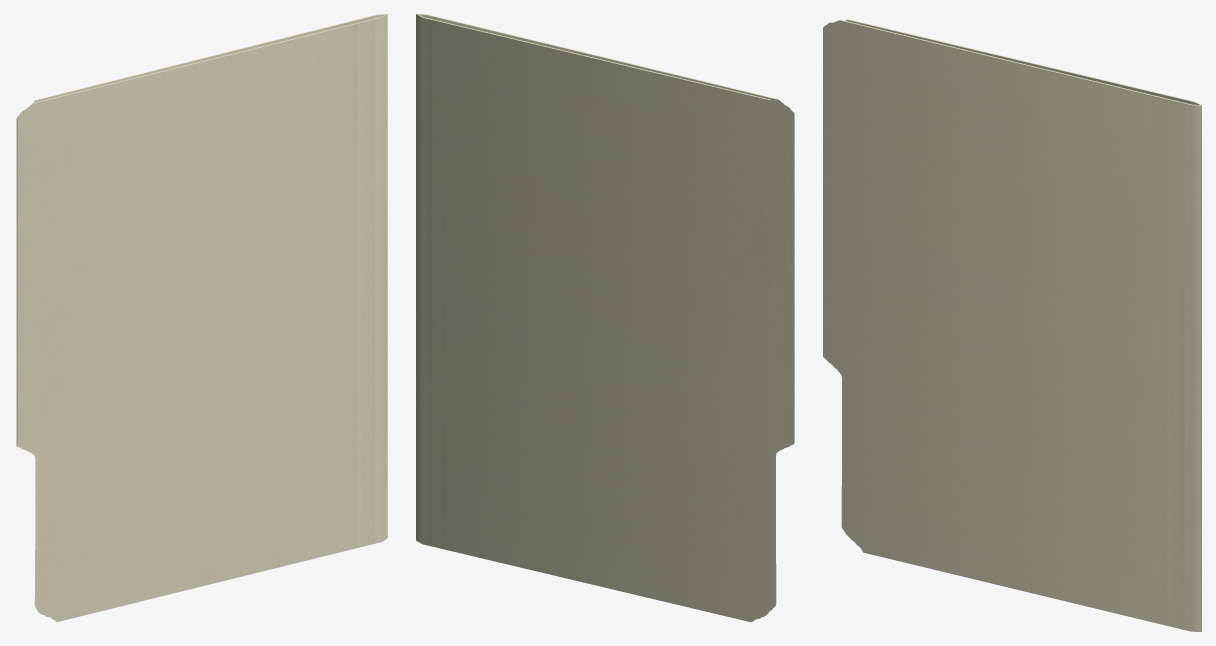
3 views of the same model, side by side, from view 1: azimuth 30°, elevation 25°; view 2: azimuth 150°, elevation 25°; view 3: azimuth 330°, elevation 25° (orthographic).
Parts seen in each view (by area): view 1: File; view 2: File; view 3: File.
Part boxes in pixels (x1,y1,x2,y2): File: (16,14,387,621); File: (416,14,794,622); File: (823,19,1201,631).
Bounding box in the file's own units: 26.38 × 35.37 × 0.6858.
1 material, 1 textured.
